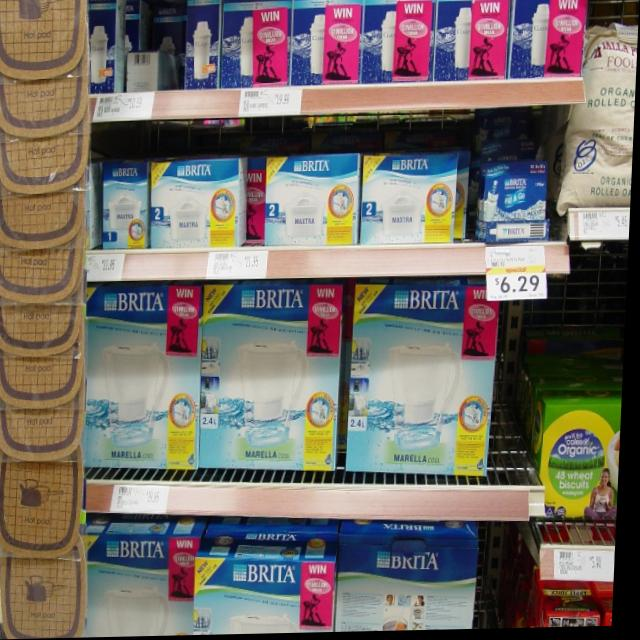q220: (348, 284, 503, 483), (199, 287, 345, 481), (78, 284, 204, 483), (148, 152, 248, 253), (361, 149, 467, 244), (264, 161, 363, 251)
